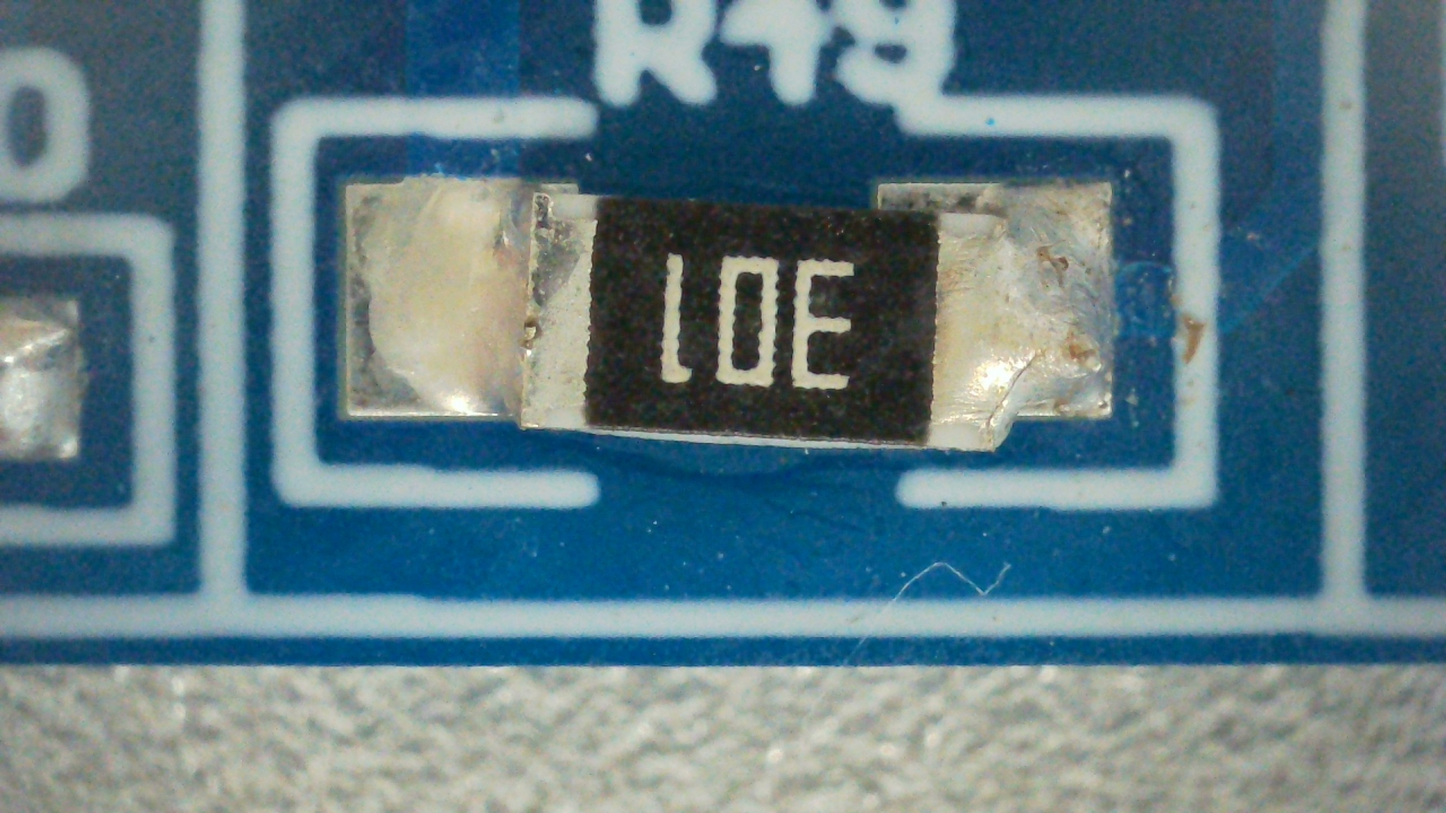NG: (345, 179, 1111, 451)
